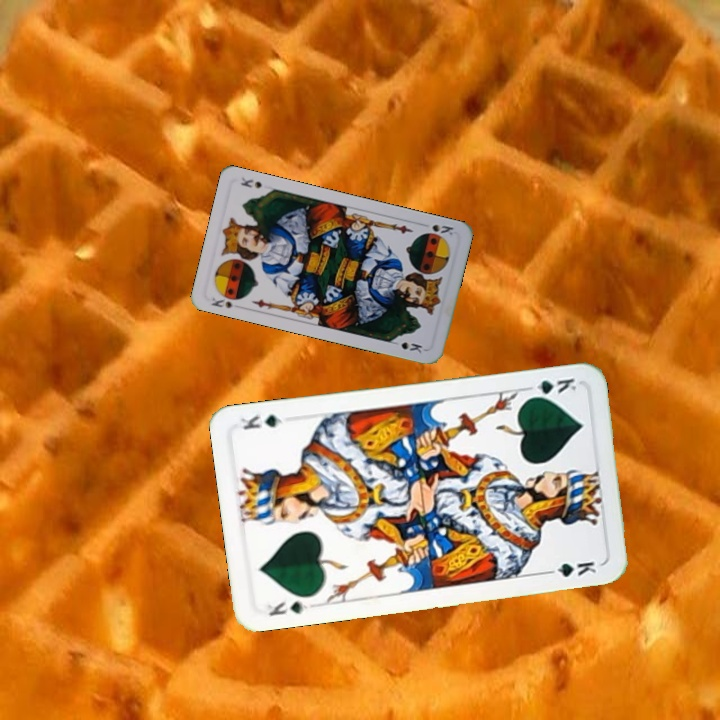GK: (523, 374, 579, 401), (263, 597, 310, 619)
SK: (207, 290, 245, 311), (428, 220, 456, 238)
